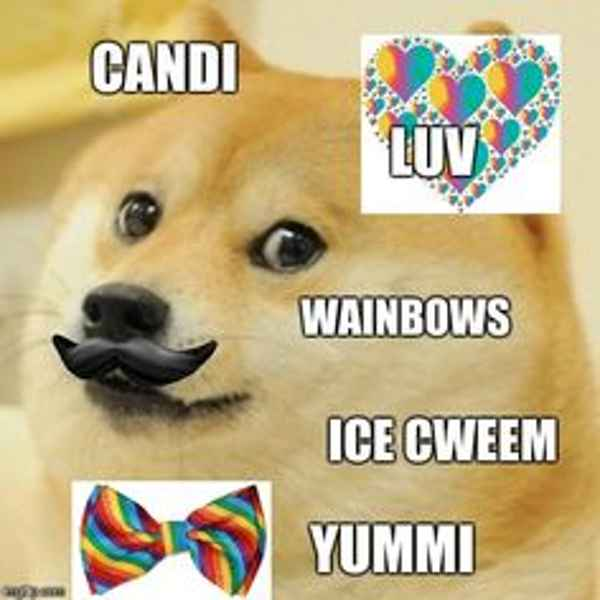doge: (52, 121, 383, 461)
